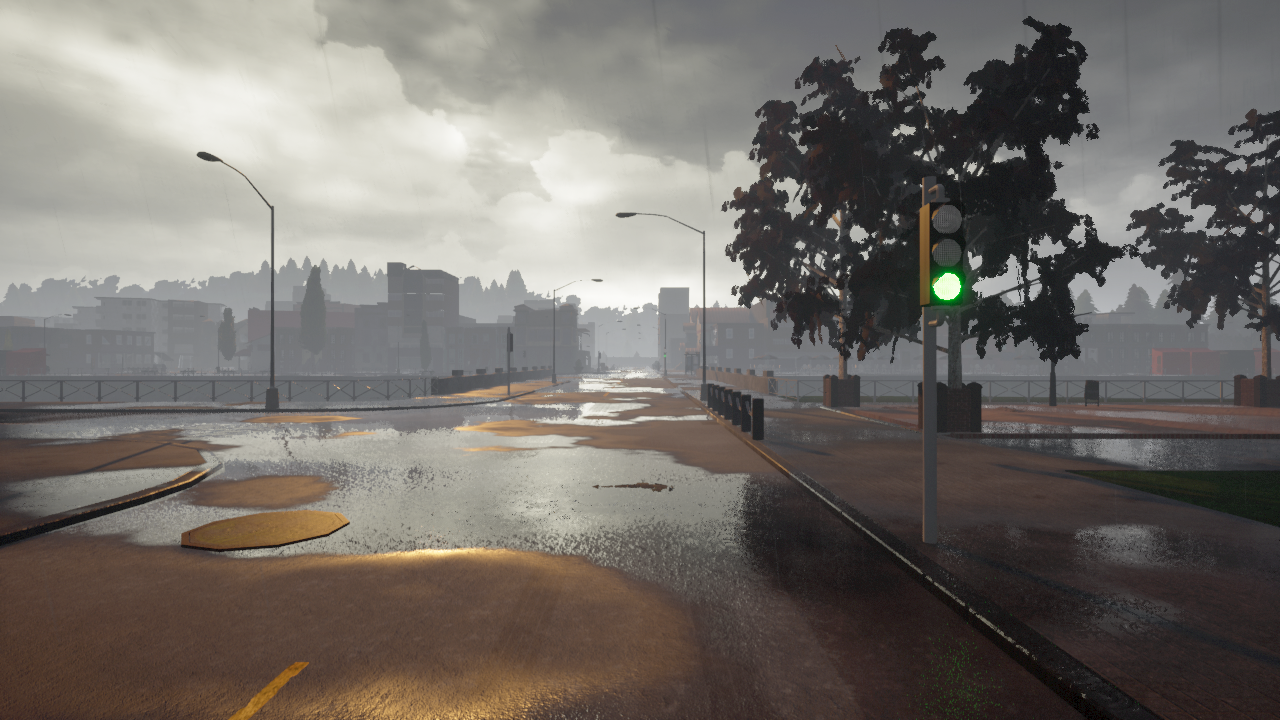green: (917, 198, 968, 307)
